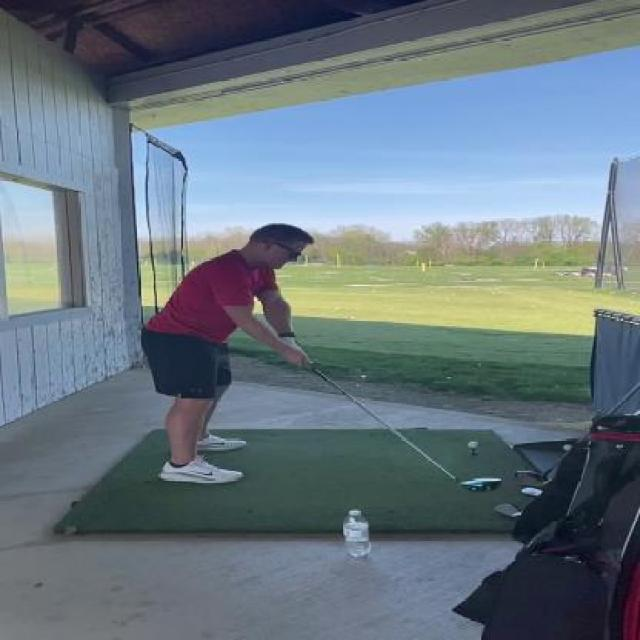club head: (448, 472, 504, 498)
